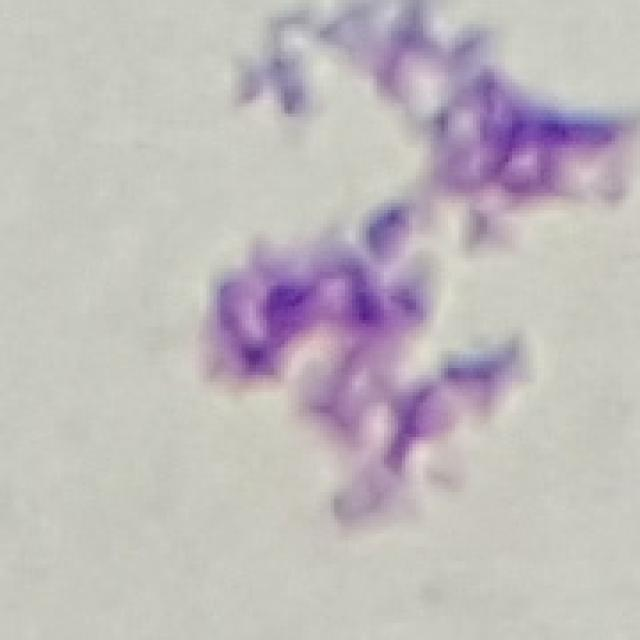non-sperm: (205, 199, 532, 528)
